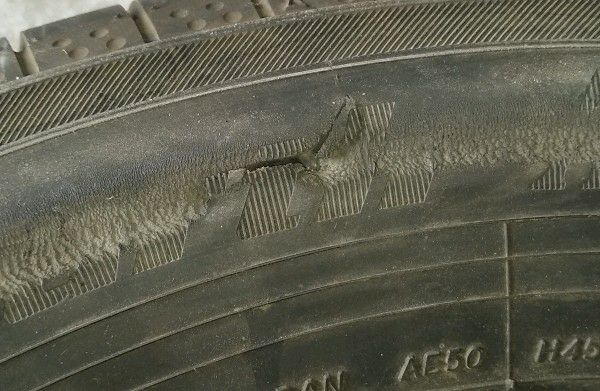cut: (216, 98, 349, 176)
